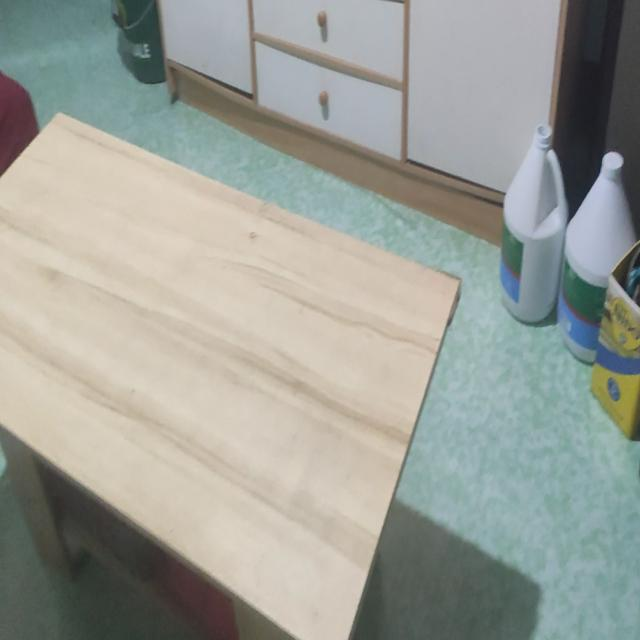table: (0, 108, 454, 639)
